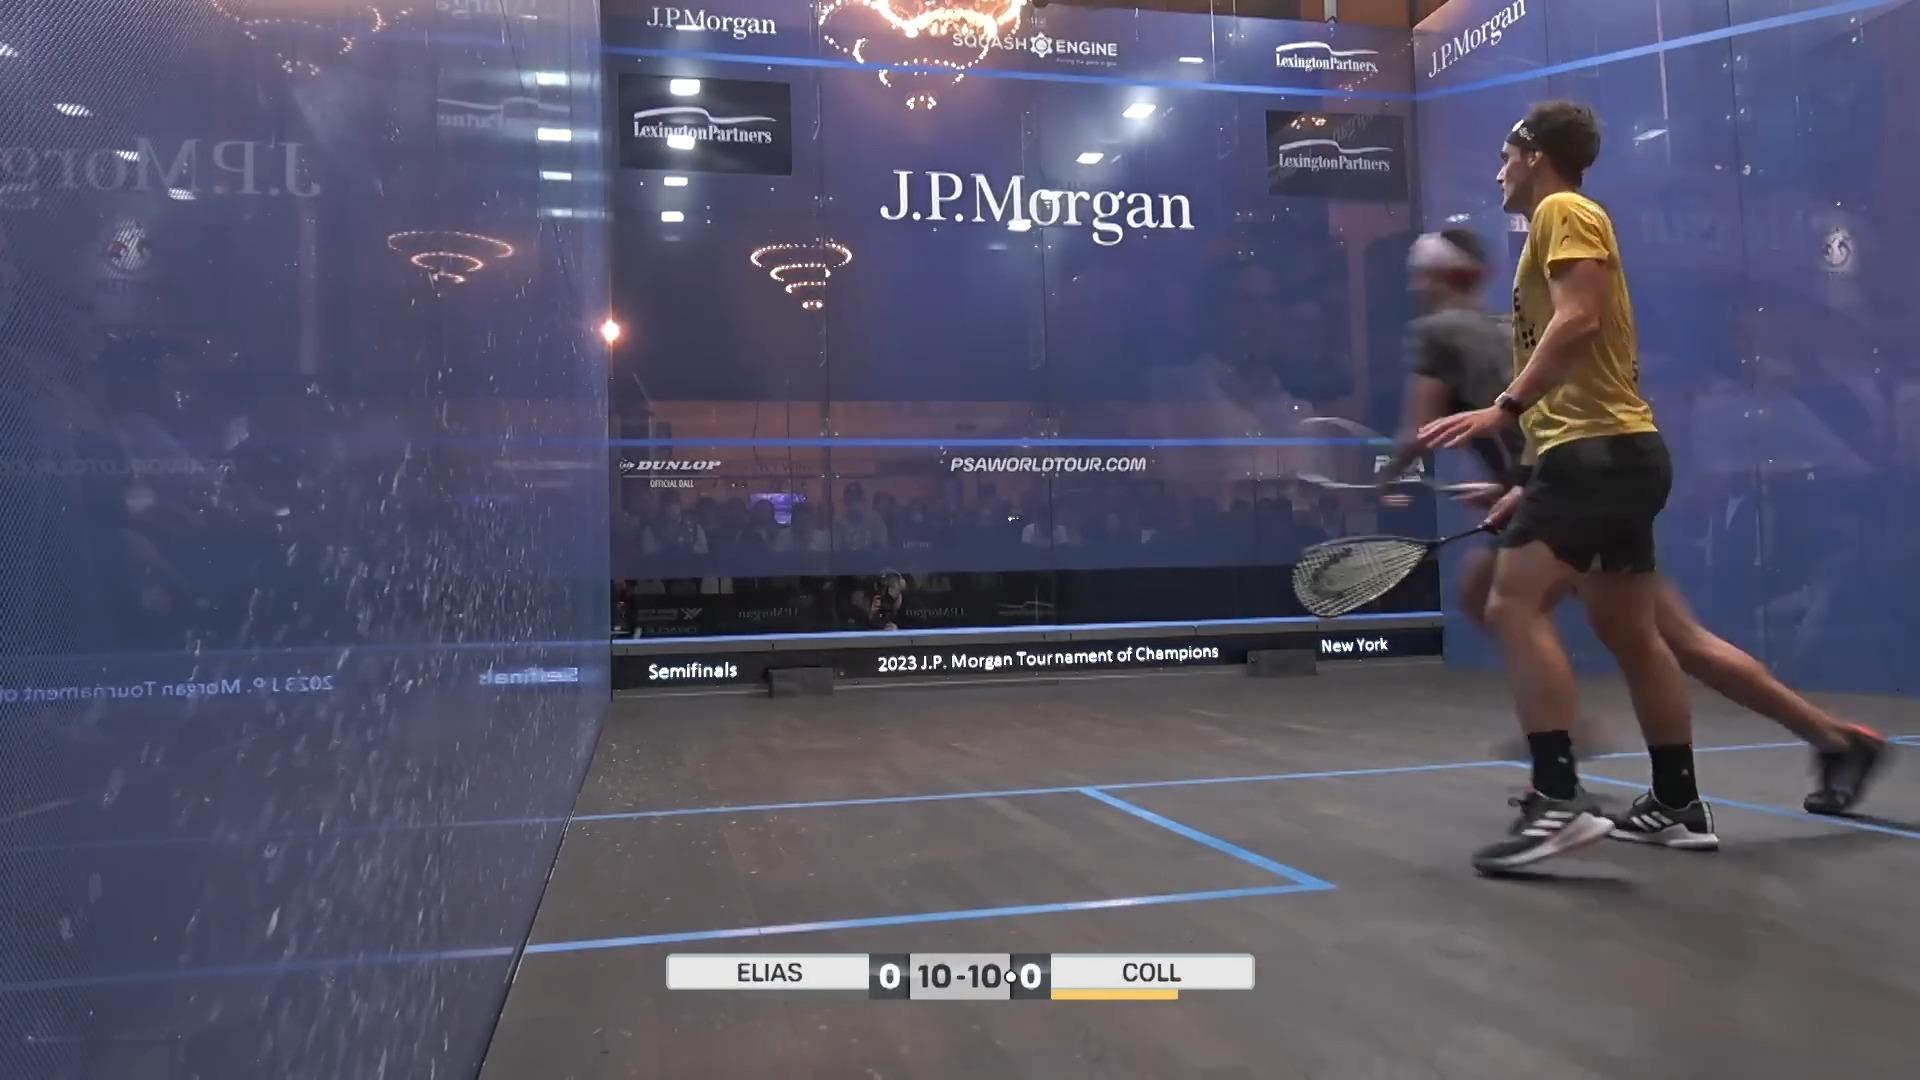Racket: (1291, 513, 1485, 629), (1282, 406, 1457, 498)
